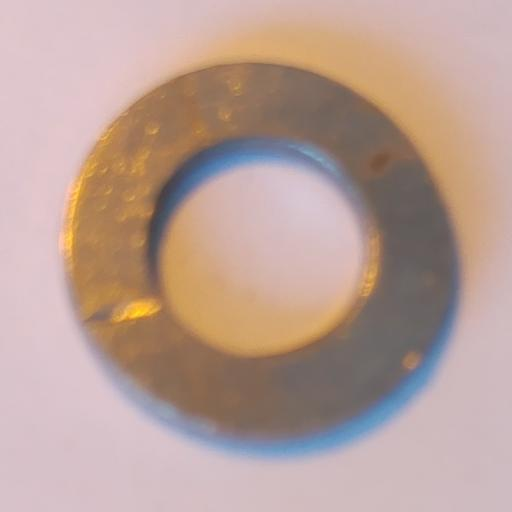scratch: (83, 298, 159, 329)
